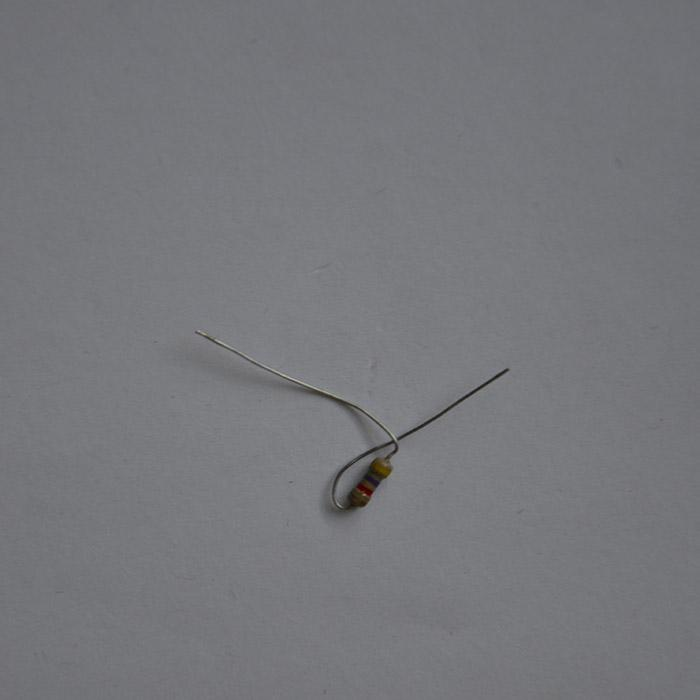resistor: (345, 454, 393, 507)
